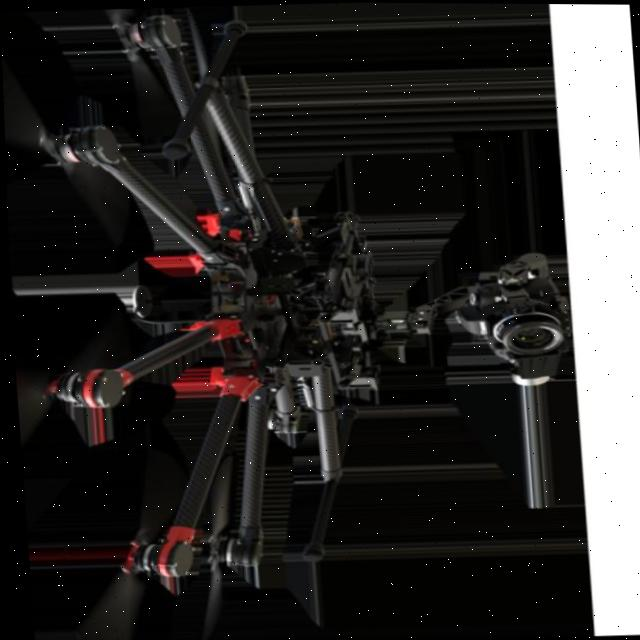drones: (0, 0, 613, 640)
